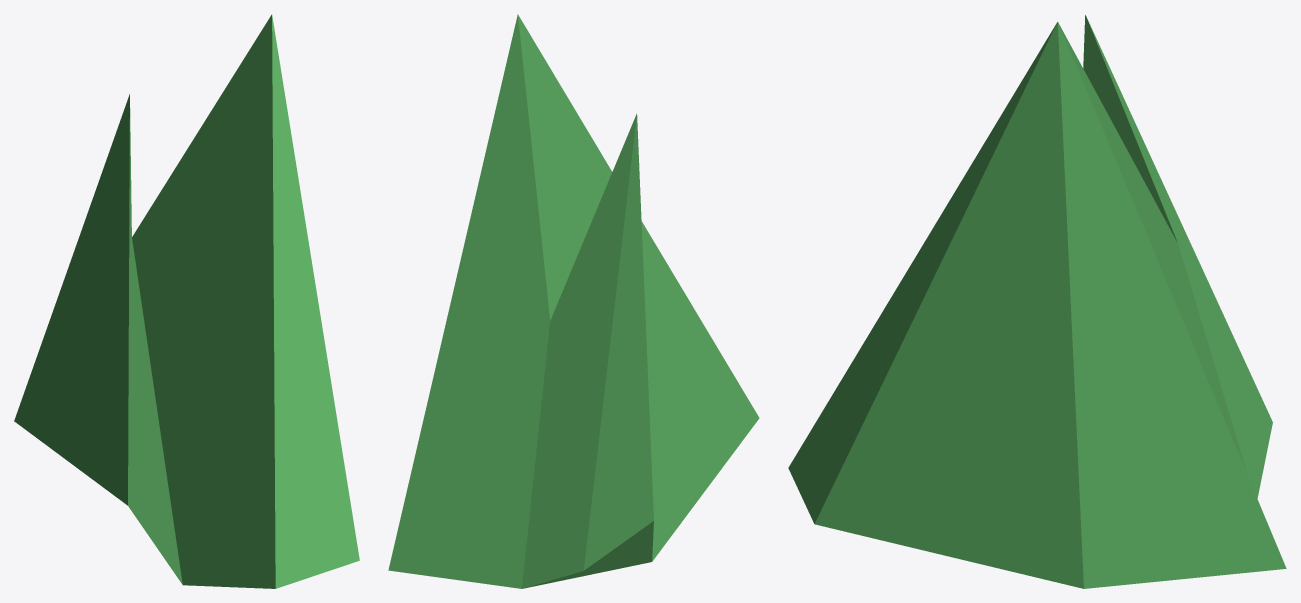
The model's file is STA_Project_Vegetations_Grass_V2.fbx.
3 renders of one model, left to right at view 1: azimuth 30°, elevation 25°; view 2: azimuth 150°, elevation 25°; view 3: azimuth 270°, elevation 25°, orthographic. The views are drawn at different scales.
Visible parts, largest first — view 1: Grass_V2; view 2: Grass_V2; view 3: Grass_V2.
Part boxes in pixels (x1=…): Grass_V2: x1=14, y1=14, x2=359, y2=588; Grass_V2: x1=388, y1=14, x2=759, y2=588; Grass_V2: x1=788, y1=15, x2=1286, y2=588.
Size of the model in its own units: 48.14 by 109 by 83.69.
1 material, 1 textured.
